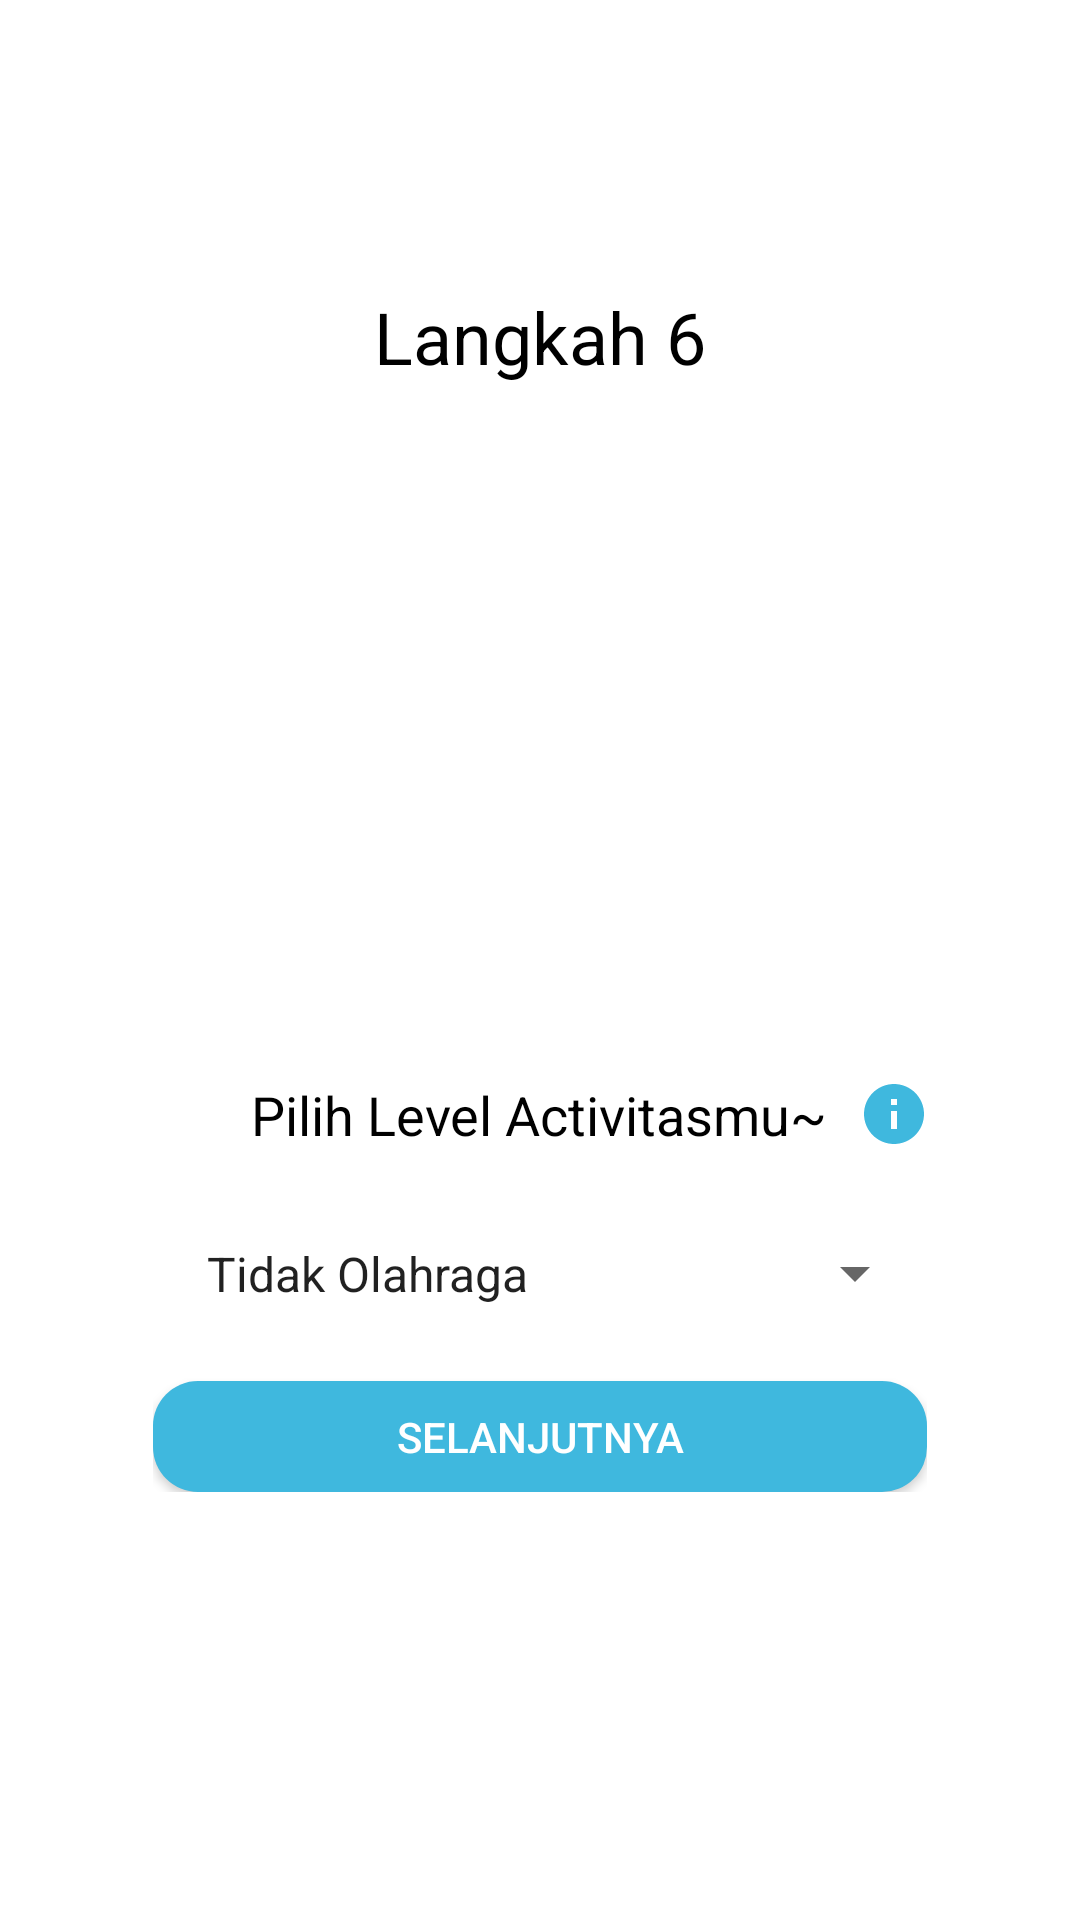

Where icons sit on this 1080×1920 app screen, as (x1, y1, x2, y2):
info: (864, 1084, 924, 1144)
